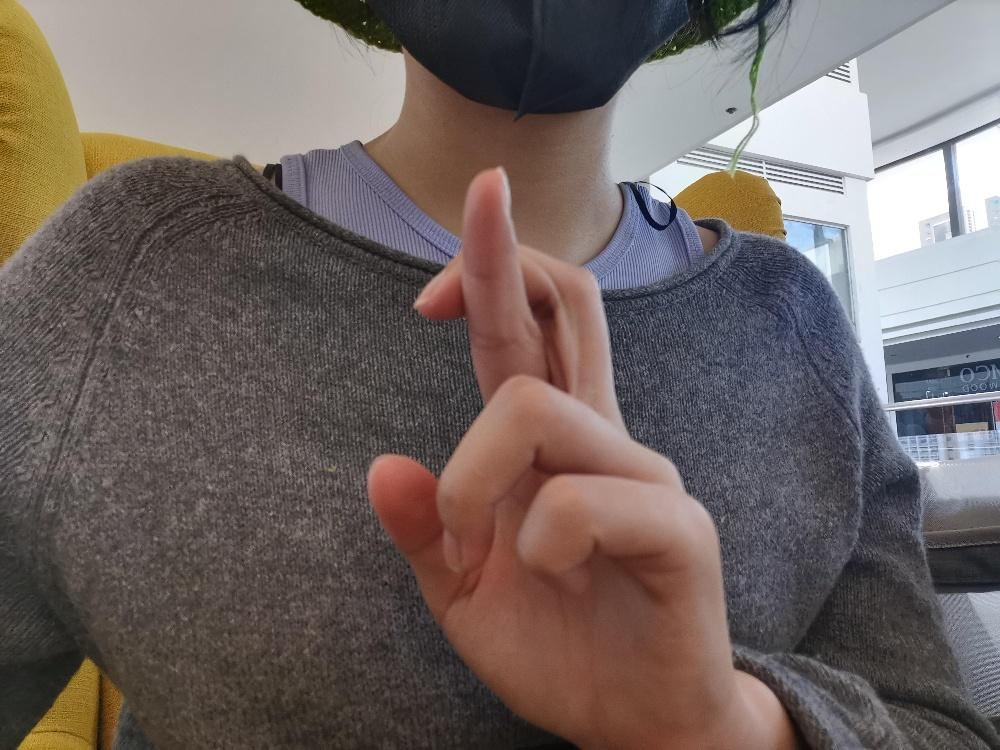r: (363, 160, 733, 749)
